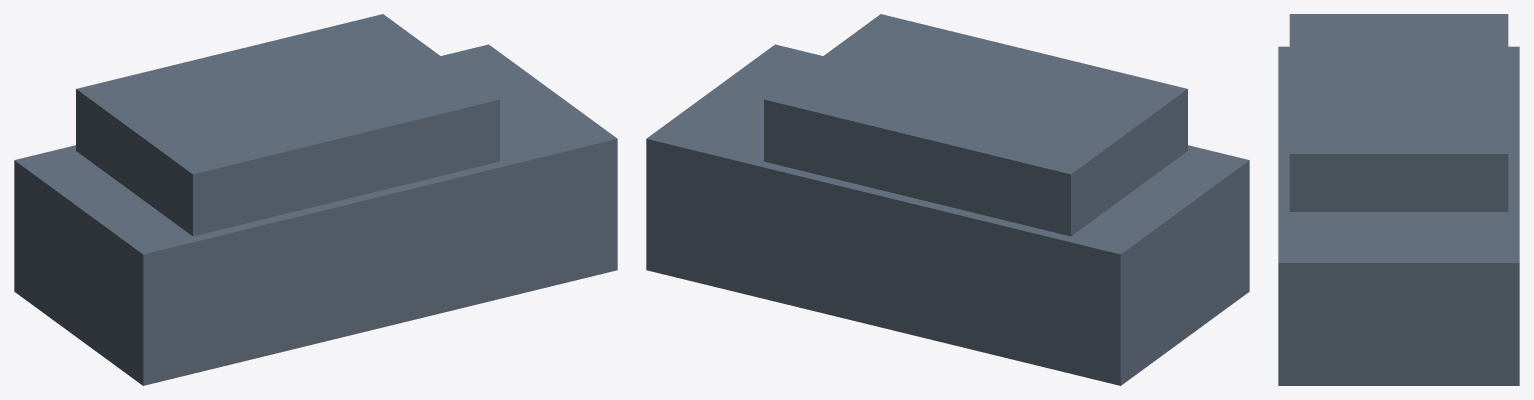
The model's file is executive_suv.glb.
3 renders of one model, left to right at view 1: azimuth 30°, elevation 25°; view 2: azimuth 150°, elevation 25°; view 3: azimuth 270°, elevation 25°, orthographic. The views are drawn at different scales.
Visible parts, largest first — view 1: GTEX_Asset_Root; view 2: GTEX_Asset_Root; view 3: GTEX_Asset_Root.
Boxes of the visible parts, x1,y1,x2,y2 form: GTEX_Asset_Root: [14, 14, 617, 385]; GTEX_Asset_Root: [646, 14, 1249, 385]; GTEX_Asset_Root: [1278, 14, 1519, 385].
Bounding box in the file's own units: 3.4 × 1.33 × 1.6.
